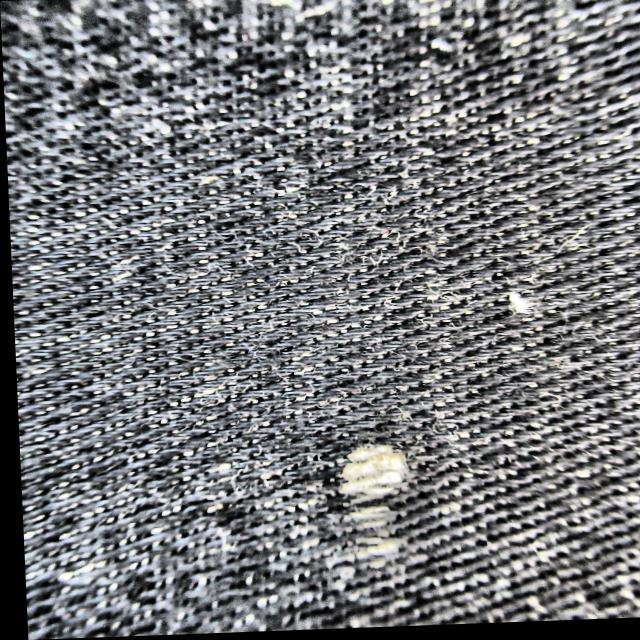Hole: (339, 445, 409, 565), (504, 284, 542, 320)
